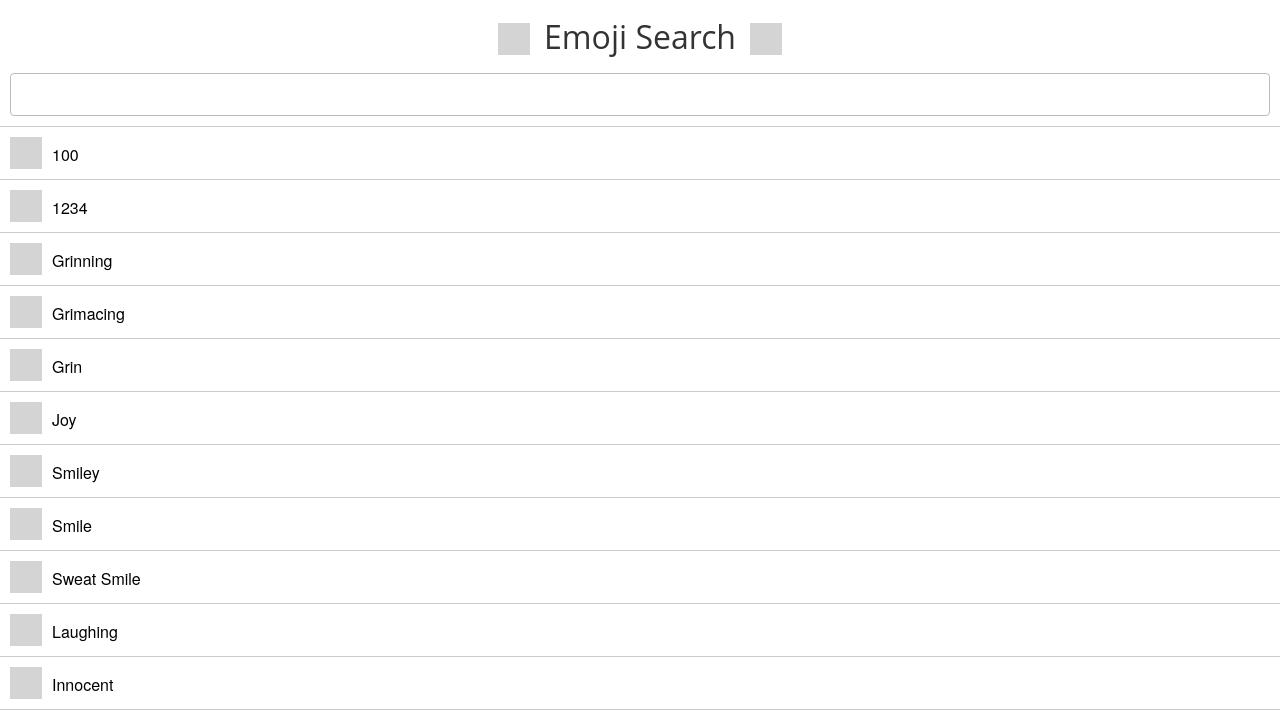
my first e2e test › shows a "emoji not found" message
The width and height of the screenshot is (1280, 720).
Type "emoji that does not exist" into the field with test id "emoji-search-input".
click(640, 95); type("emoji that does not exist")  # box [10,73,1270,116]
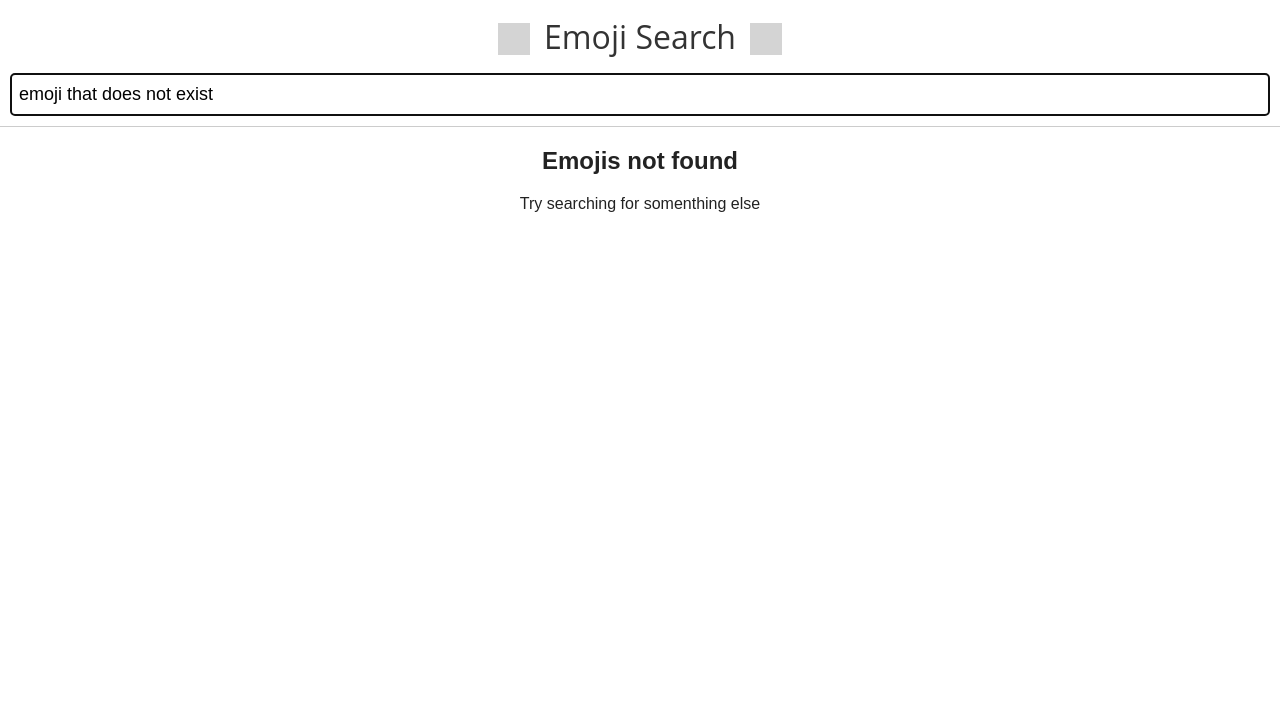
expect no elements with test id "emoji-row" are shown: met
expect the heading "Emojis not found" is shown: met, box [542,147,738,174]
expect the text "Try searching for somenthing else" is shown: met, box [520,195,760,212]
